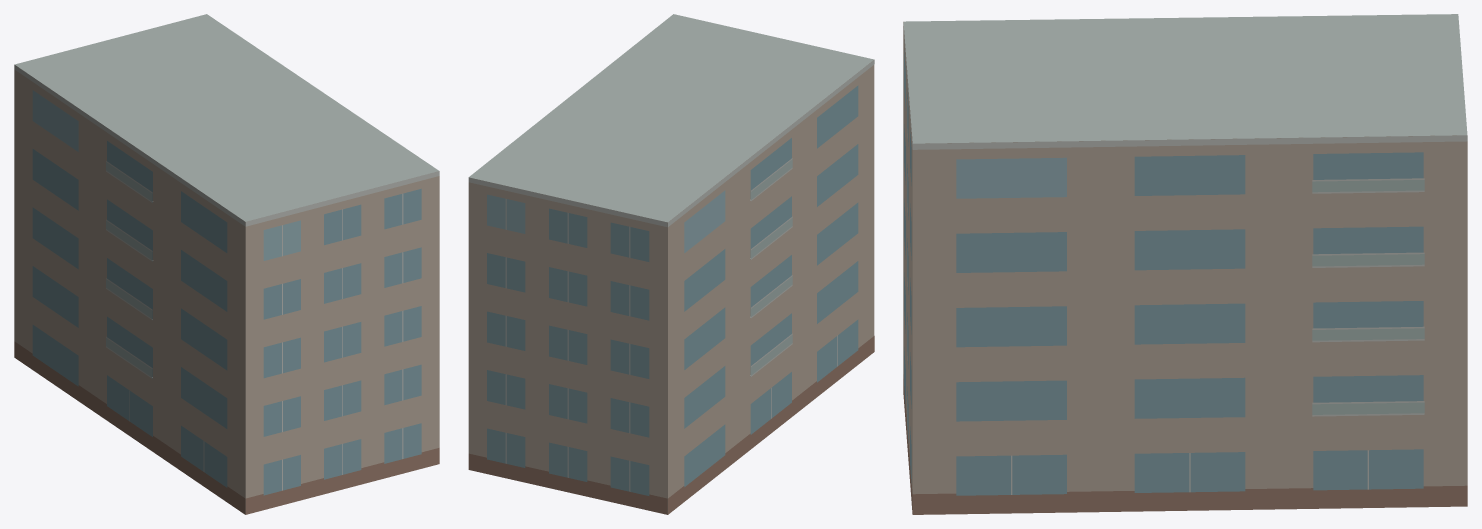
Rendered from survey-upis-32609847.glb.
The picture shows the model from 3 angles, left to right: view 1: azimuth 30°, elevation 25°; view 2: azimuth 150°, elevation 25°; view 3: azimuth 270°, elevation 25°; orthographic projection. The views are drawn at different scales.
Parts seen in each view (by area): view 1: survey-upis-32609847.tmp; view 2: survey-upis-32609847.tmp; view 3: survey-upis-32609847.tmp.
Boxes of the visible parts, box(x1,y1,x2,y2) form: survey-upis-32609847.tmp: box(14, 14, 439, 514); survey-upis-32609847.tmp: box(468, 14, 874, 514); survey-upis-32609847.tmp: box(903, 14, 1467, 514).
Bounding box in the file's own units: 10.87 × 14.5 × 19.98.
